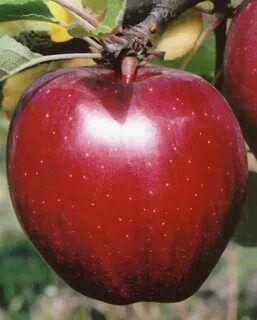Apple: (7, 64, 247, 308)
